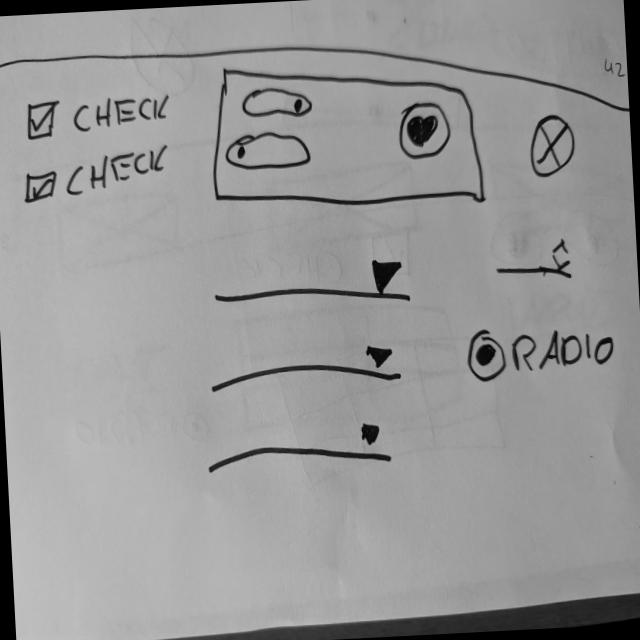checkbox: (21, 142, 174, 208), (24, 92, 177, 144)
container: (205, 53, 488, 220)
image: (527, 112, 580, 183)
number-input: (492, 236, 576, 287)
radio: (466, 321, 619, 384)
select: (212, 253, 414, 316), (204, 417, 396, 479), (208, 340, 406, 399)
toggle: (224, 129, 315, 175), (398, 99, 454, 164), (241, 84, 317, 124)
